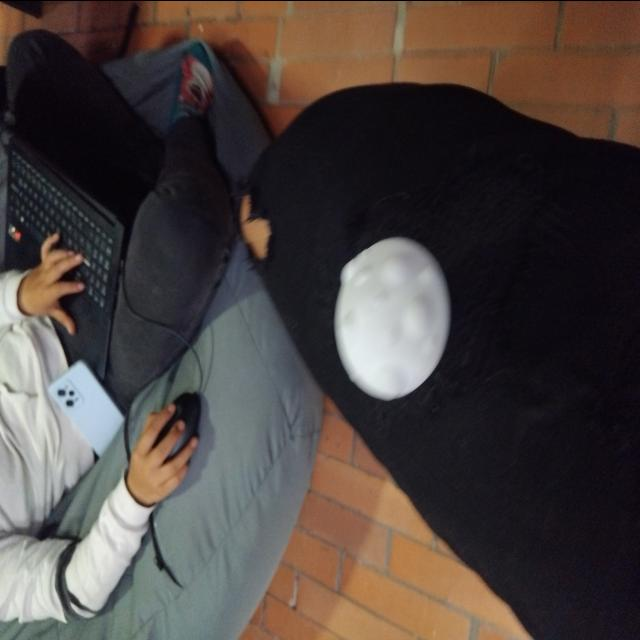Hongo: (332, 224, 461, 409)
